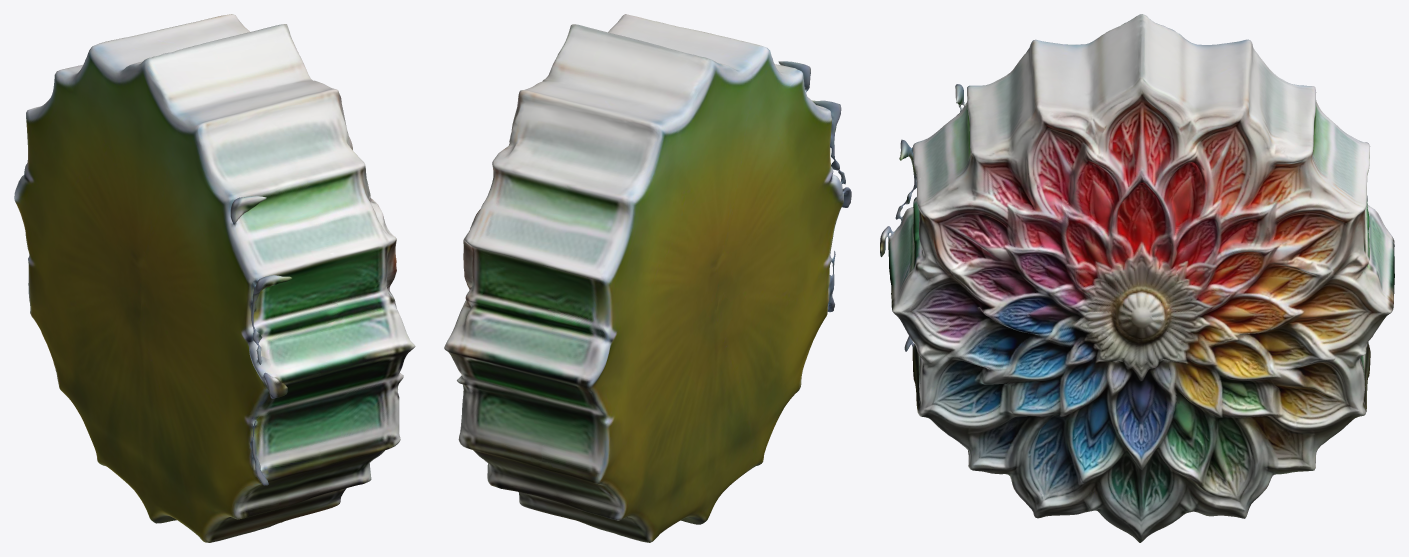
Rendered from chakra_mandala_3d.glb.
The picture shows the model from 3 angles, left to right: view 1: azimuth 30°, elevation 25°; view 2: azimuth 150°, elevation 25°; view 3: azimuth 270°, elevation 25°; orthographic projection.
Visible parts, largest first — view 1: tripo_node_d4490f61-2c28-4265-8939-73e4e490c579; view 2: tripo_node_d4490f61-2c28-4265-8939-73e4e490c579; view 3: tripo_node_d4490f61-2c28-4265-8939-73e4e490c579.
Boxes of the visible parts, bbox=[...] form: tripo_node_d4490f61-2c28-4265-8939-73e4e490c579: bbox=[14, 14, 415, 542]; tripo_node_d4490f61-2c28-4265-8939-73e4e490c579: bbox=[444, 14, 851, 542]; tripo_node_d4490f61-2c28-4265-8939-73e4e490c579: bbox=[880, 14, 1394, 542].
Size of the model in its own units: 0.2895 by 0.7446 by 0.738.
1 material, 1 textured.
